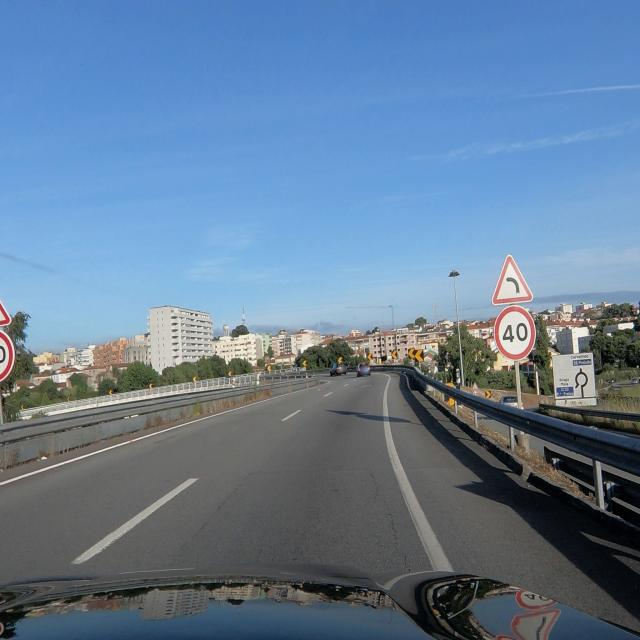car: (498, 394, 522, 409), (329, 362, 348, 376), (356, 362, 372, 378)
